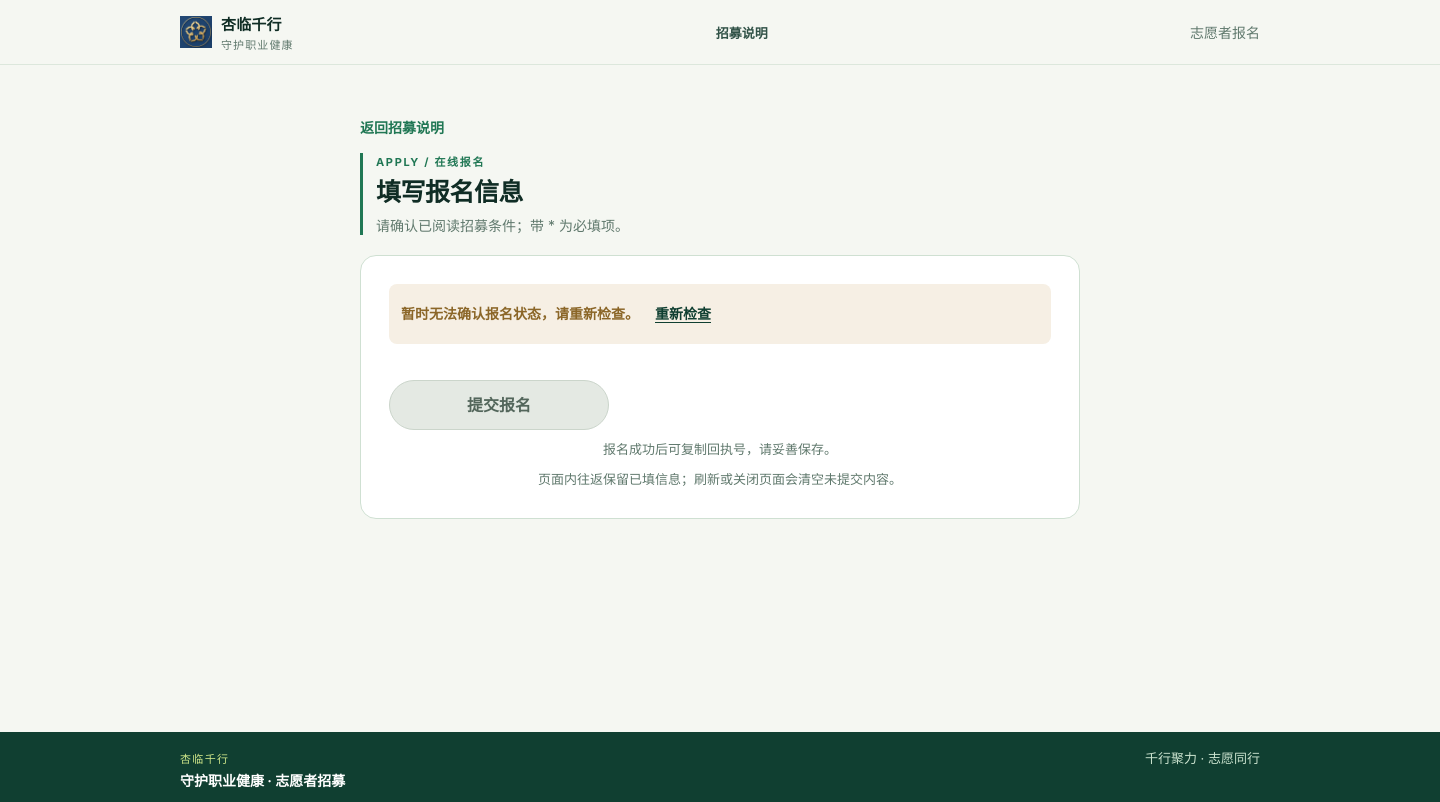
Test: registration experience › shows retry for network failures and rejects incomplete metadata
This screenshot has width=1440, height=802.
Expected: the text "暂时无法确认报名状态，请重新检查。" is shown, [401, 303, 639, 325]
Click the button "重新检查" at (683, 314), box [647, 292, 719, 336]
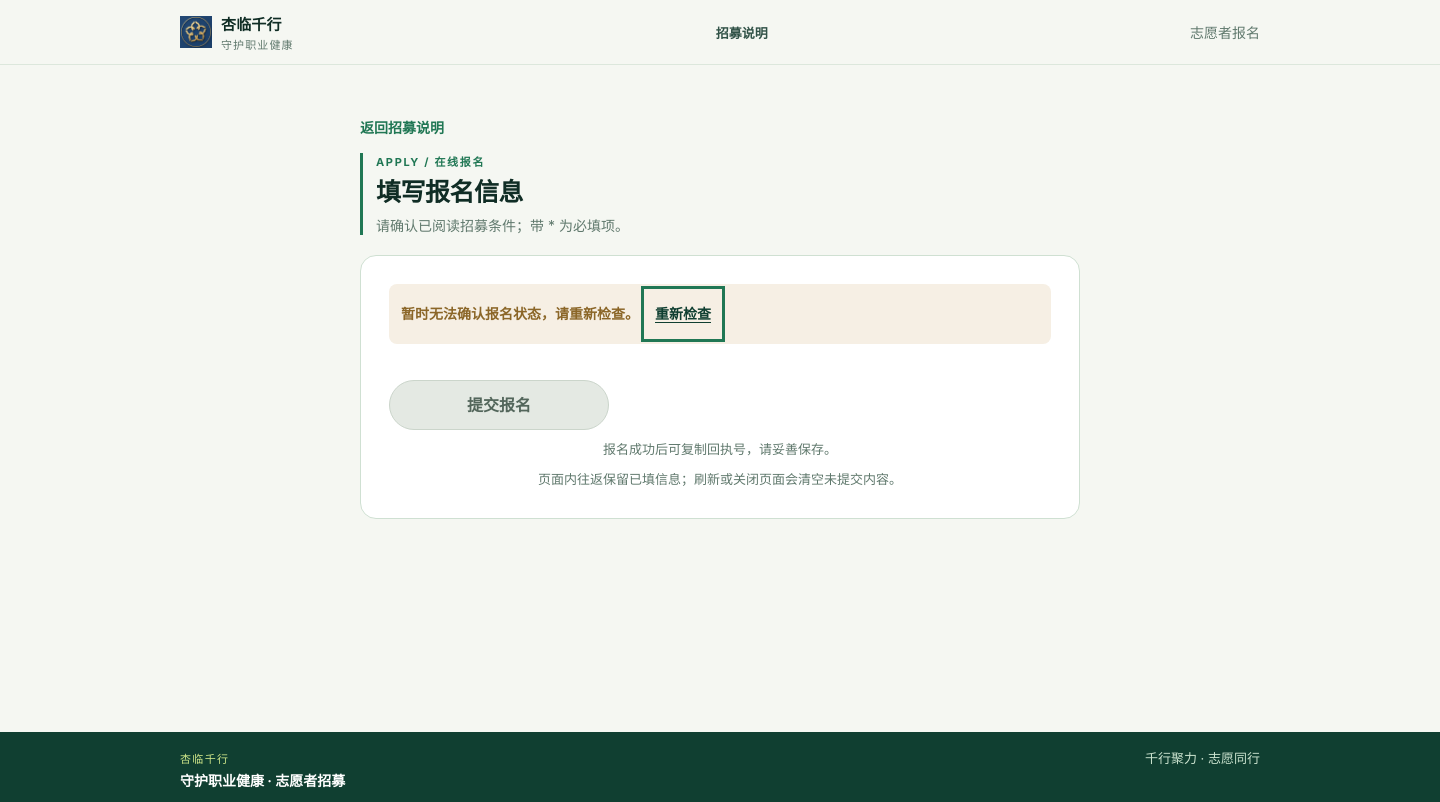
Expected: the text "暂时无法确认报名状态，请重新检查。" is shown, [401, 303, 639, 325]
Click the button "重新检查" at (683, 314), box [647, 292, 719, 336]
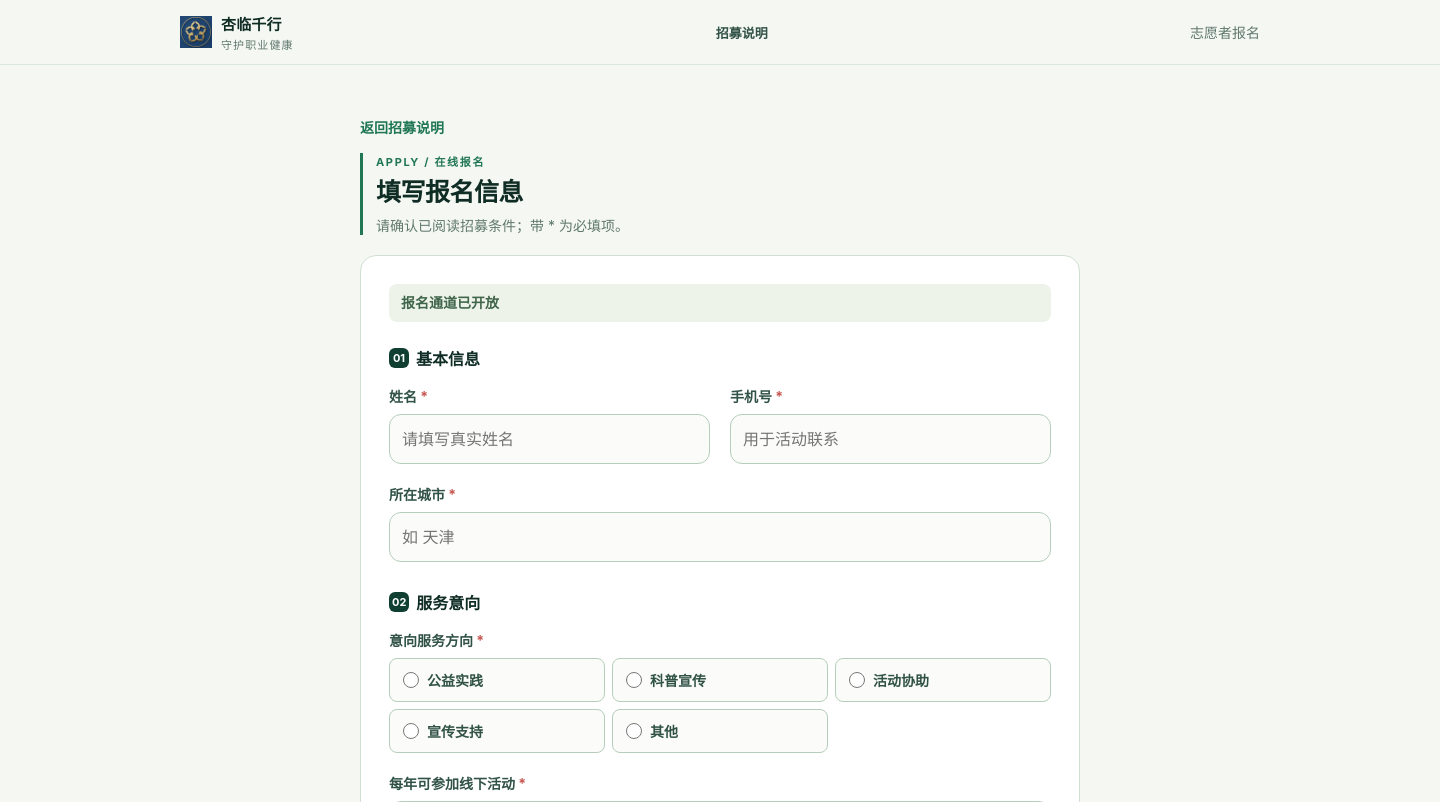
Expected: the text "报名通道已开放" is shown, [401, 292, 499, 314]
